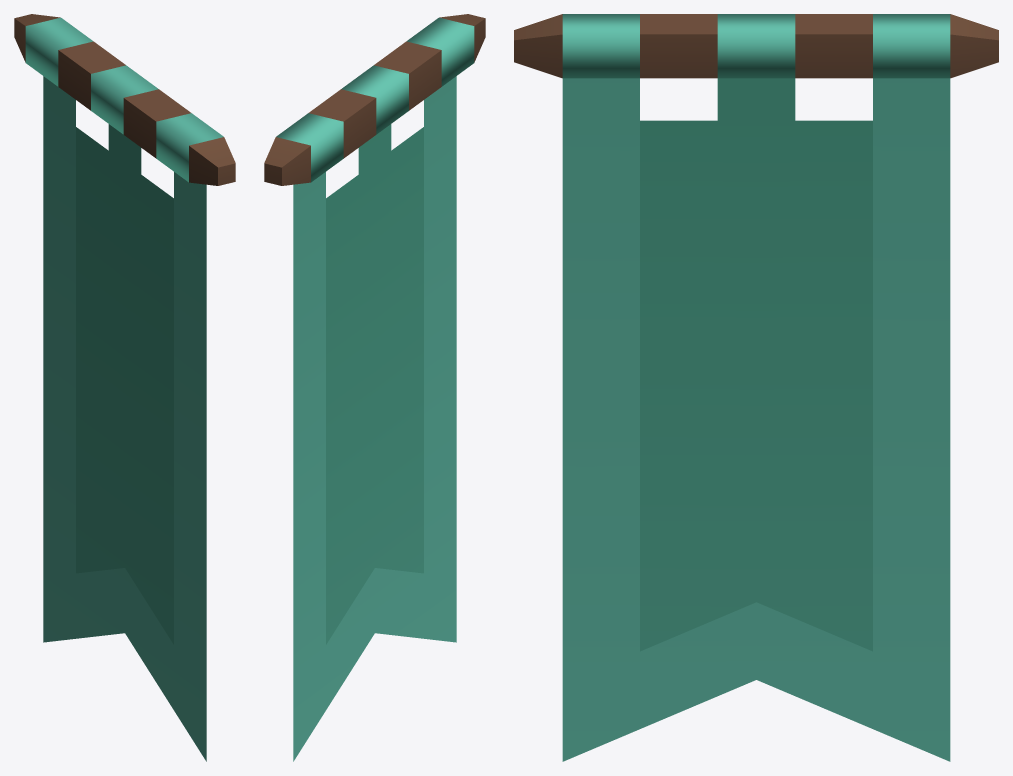
File: banner-green.glb
3 renders of one model, left to right at view 1: azimuth 30°, elevation 25°; view 2: azimuth 150°, elevation 25°; view 3: azimuth 270°, elevation 25°, orthographic. The views are drawn at different scales.
Visible parts, largest first — view 1: banner-green; view 2: banner-green; view 3: banner-green.
Boxes of the visible parts, x1,y1,x2,y2 form: banner-green: (14,14,235,761); banner-green: (264,14,485,761); banner-green: (514,14,998,761).
Bounding box in the file's own units: 0.05 × 0.8394 × 0.5.
Materials: 1 (1 with a texture image).
